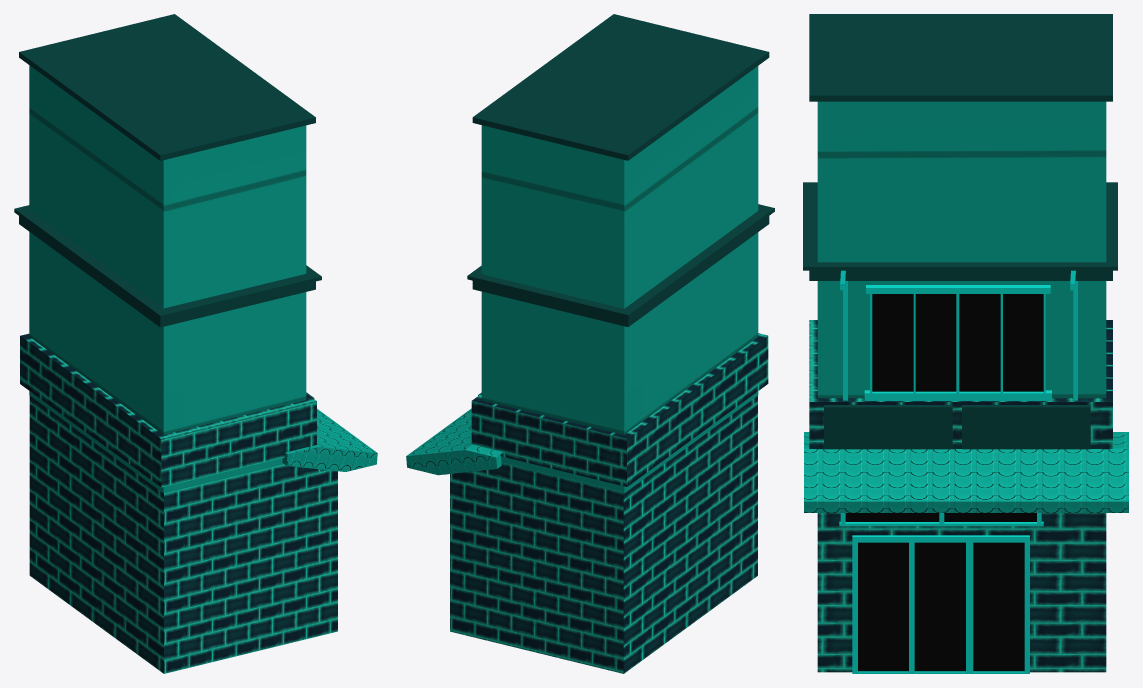
File: building3.fbx
The picture shows the model from 3 angles, left to right: view 1: azimuth 30°, elevation 25°; view 2: azimuth 150°, elevation 25°; view 3: azimuth 270°, elevation 25°; orthographic projection. The views are drawn at different scales.
Parts seen in each view (by area): view 1: Cube.016, Cube.013, Cube.010, Cube.015; view 2: Cube.016, Cube.013, Cube.010, Cube.015; view 3: Cube.016, Cube.013, Cube.015, Cube.020, Cube.036, Cube.010, Cube.021, Cube.022, Cube.012, Cube.018, Cube.027, Cube.009 (+2 smaller).
Part boxes in pixels (left/top/right/bottom): Cube.016: left=20, top=65, right=337, bottom=673; Cube.013: left=19, top=14, right=315, bottom=160; Cube.010: left=14, top=205, right=321, bottom=327; Cube.015: left=282, top=409, right=377, bottom=471; Cube.016: left=450, top=66, right=768, bottom=673; Cube.013: left=472, top=14, right=769, bottom=160; Cube.010: left=467, top=204, right=774, bottom=326; Cube.015: left=406, top=408, right=503, bottom=475; Cube.016: left=809, top=101, right=1112, bottom=672; Cube.013: left=809, top=14, right=1112, bottom=101; Cube.015: left=804, top=432, right=1128, bottom=512; Cube.020: left=858, top=542, right=1024, bottom=671; Cube.036: left=872, top=294, right=1043, bottom=391; Cube.010: left=803, top=182, right=1117, bottom=280; Cube.021: left=824, top=405, right=952, bottom=449; Cube.022: left=962, top=405, right=1090, bottom=449; Cube.012: left=852, top=535, right=1029, bottom=673; Cube.018: left=864, top=285, right=1051, bottom=400; Cube.027: left=845, top=513, right=1036, bottom=521; Cube.009: left=839, top=513, right=1043, bottom=526.
Bounding box in the file's own units: 1401 × 3222 × 1689.
